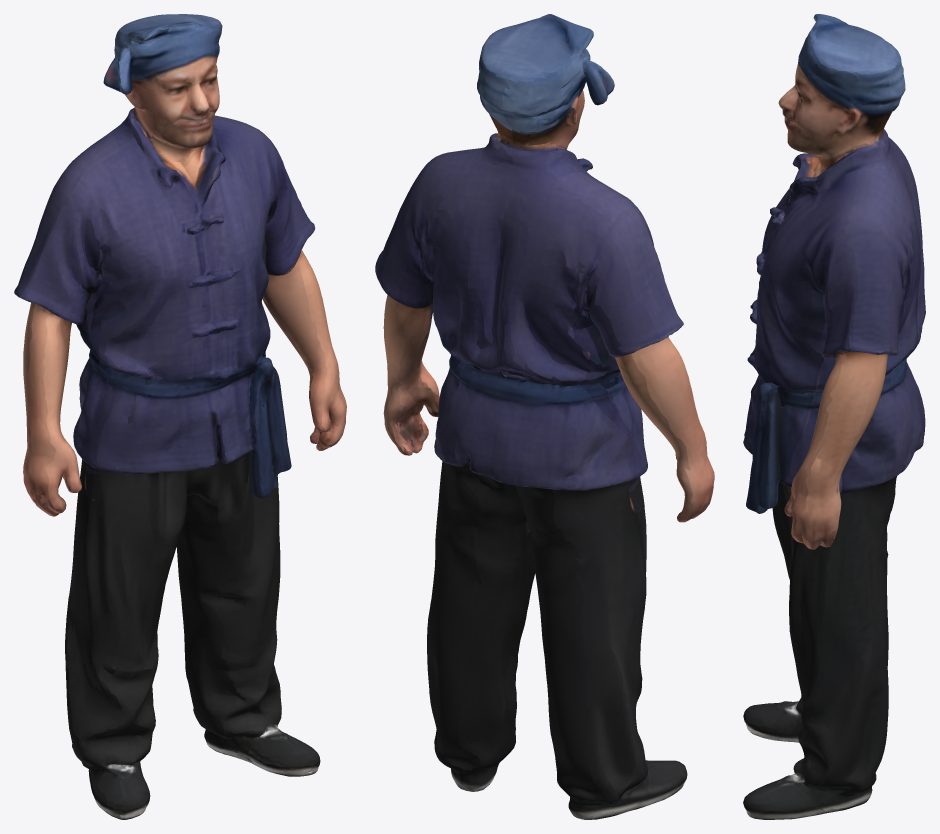
File: militia_jia.glb
3 views of the same model, side by side, from view 1: azimuth 30°, elevation 25°; view 2: azimuth 150°, elevation 25°; view 3: azimuth 270°, elevation 25° (orthographic). The views are drawn at different scales.
Visible parts, largest first — view 1: geometry_0; view 2: geometry_0; view 3: geometry_0.
Part boxes in pixels (<box>): geometry_0: <box>14,14,346,819</box>; geometry_0: <box>375,14,714,819</box>; geometry_0: <box>743,14,925,819</box>.
Size of the model in its own units: 0.7676 by 1.75 by 0.3905.
1 material, 1 textured.
